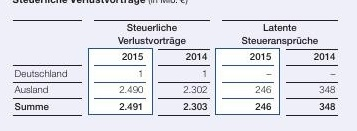table: (0, 0, 357, 131)
